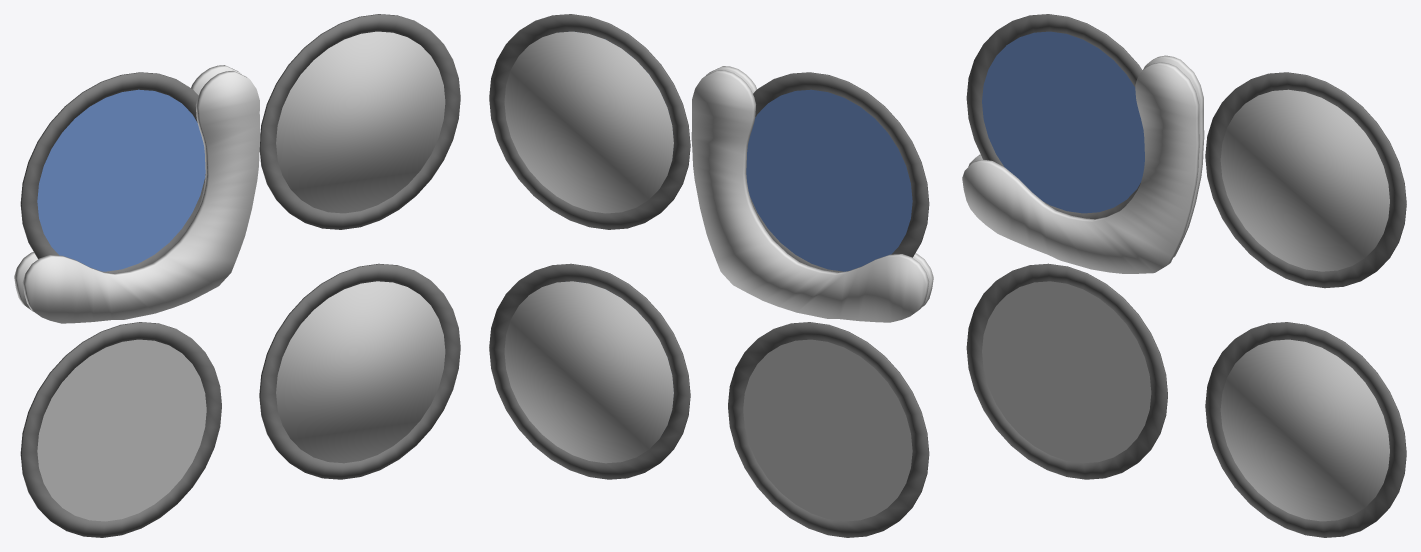
File: Menu.fbx
3 renders of one model, left to right at view 1: azimuth 30°, elevation 25°; view 2: azimuth 150°, elevation 25°; view 3: azimuth 330°, elevation 25°, orthographic.
Parts seen in each view (by area): view 1: Apoio.000, Circle; view 2: Apoio.000, Circle; view 3: Apoio.000, Circle.
Boxes of the visible parts, x1,y1,x2,y2 form: Apoio.000: (20, 14, 460, 537); Circle: (14, 65, 260, 323); Apoio.000: (489, 14, 929, 537); Circle: (691, 66, 933, 322); Apoio.000: (966, 14, 1406, 537); Circle: (962, 55, 1204, 273).
Bounding box in the file's own units: 1850 × 1842 × 74.31.
